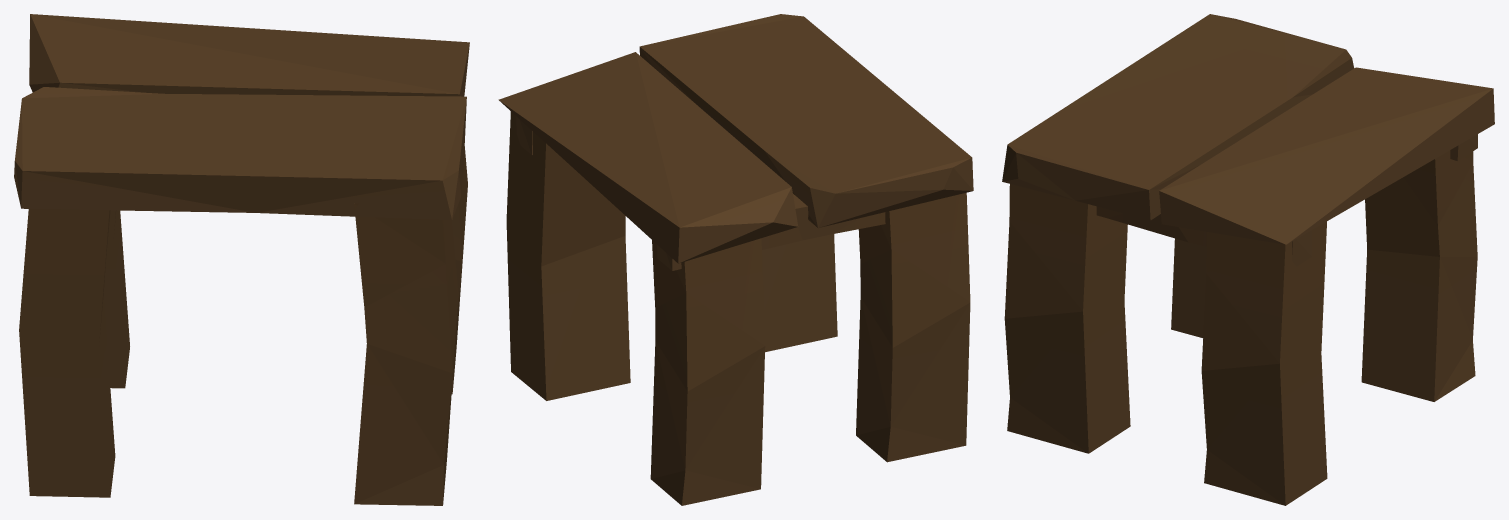
The model's file is ChairBrocken.fbx.
3 renders of one model, left to right at view 1: azimuth 30°, elevation 25°; view 2: azimuth 150°, elevation 25°; view 3: azimuth 270°, elevation 25°, orthographic. The views are drawn at different scales.
Parts seen in each view (by area): view 1: ChairBrocken; view 2: ChairBrocken; view 3: ChairBrocken.
Part boxes in pixels (x1,y1,x2,y2): ChairBrocken: (14, 14, 469, 505); ChairBrocken: (498, 14, 973, 505); ChairBrocken: (1002, 14, 1494, 505).
Size of the model in its own units: 64.93 by 41.37 by 64.01.
